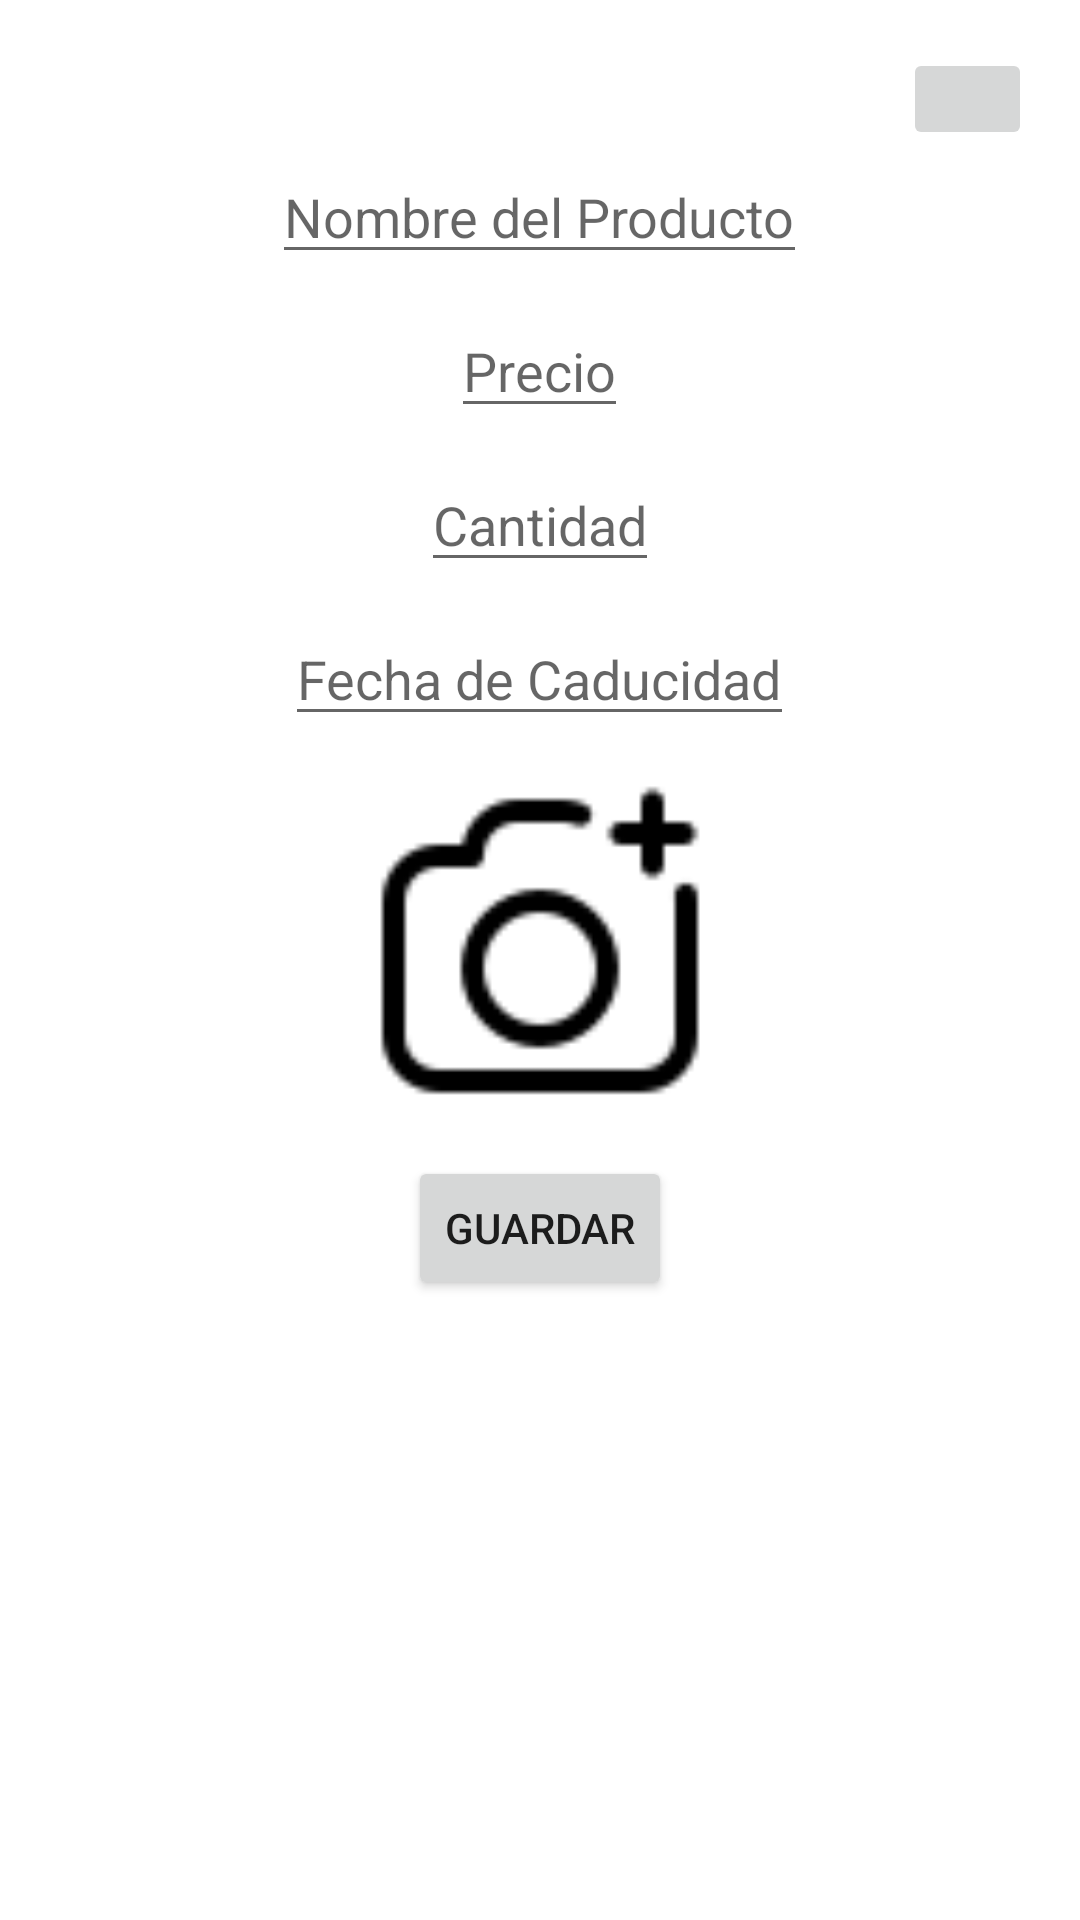

Named icons in this screenshot (1080×1920) and their centers, point (x, y):
camara: point (540, 941)
